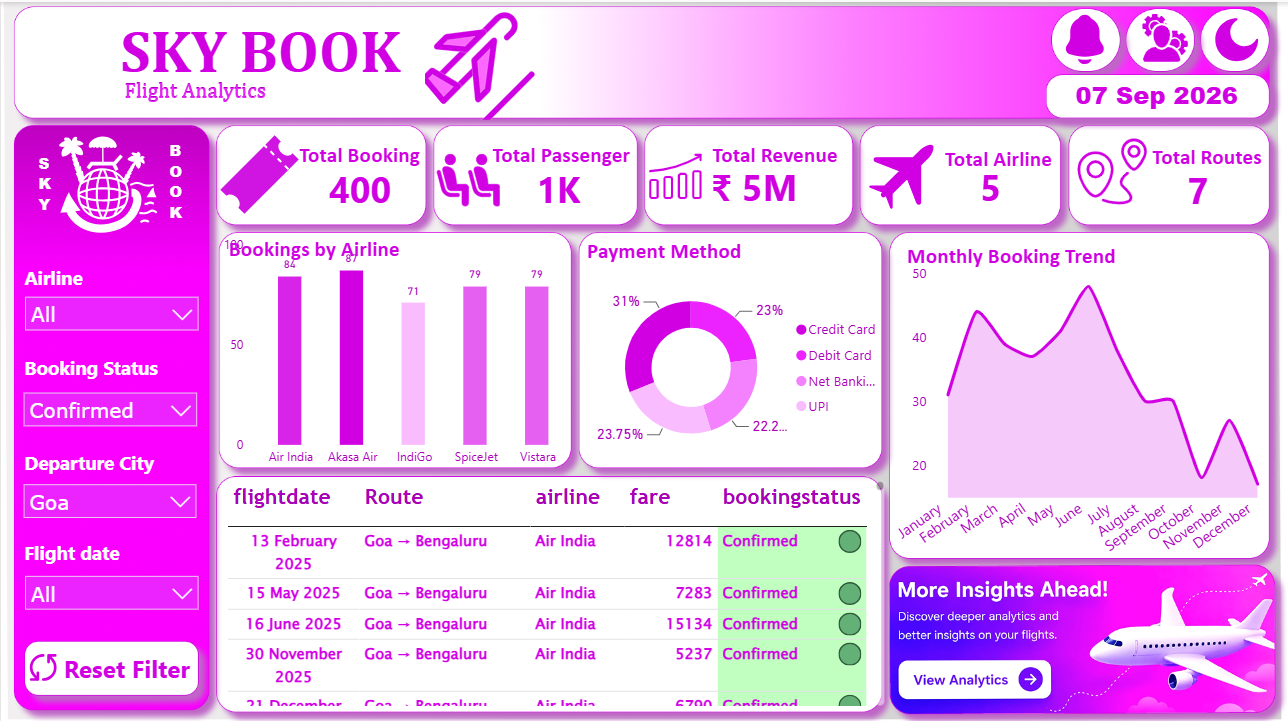

Layout of this report page (visuals, bound fields, positions):
{"tool":"powerbi","page":{"name":"Flight Overview","canvas":[1280,720],"ordinal":0},"visuals":[{"type":"image","box":[7.4,0,1272.8,719.8],"z":1000},{"type":"cardVisual","fields":{"Data":["customer_db_.Total Bookings"]},"box":[307,148.6,112.1,65.9],"z":2000},{"type":"cardVisual","fields":{"Data":["customer_db_.Total Airlines"]},"box":[954.6,141.6,126.2,74.3],"z":3000},{"type":"cardVisual","fields":{"Data":["customer_db_.Total Revenue"]},"box":[686.3,141.4,181.5,75.3],"z":4000},{"type":"cardVisual","fields":{"Data":["customer_db_.Total Passengers"]},"box":[512.8,143.6,105.3,76.2],"z":5000},{"type":"cardVisual","fields":{"Data":["customer_db_.Total Routes"]},"box":[1160.3,144.1,119.1,75],"z":6000},{"type":"cardVisual","fields":{"Data":["Min(customer_db_.Today's Date)"]},"box":[1060.3,44,214.7,78.2],"z":14000},{"type":"image","box":[394.1,0,167.6,122.1],"z":15000},{"type":"textbox","box":[113.7,8.2,305.5,113.7],"z":19000},{"type":"textbox","box":[291.1,132.9,143,41.8],"z":27000},{"type":"textbox","box":[933.8,136.8,144.1,42.6],"z":28000},{"type":"textbox","box":[702.6,133.5,142.7,41.9],"z":29000},{"type":"textbox","box":[1139.7,135.3,125,41.2],"z":30000},{"type":"textbox","box":[483.3,133.5,156.8,41.9],"z":31000},{"type":"image","box":[212.4,123.7,88,96],"z":32000},{"type":"image","box":[1064.7,122.4,79.1,92.5],"z":33000},{"type":"actionButton","box":[15,624.1,190.2,70.5],"z":33500},{"type":"image","box":[800.5,121.9,189.6,103.5],"z":34000},{"type":"image","box":[639.8,141.8,62.7,64.2],"z":35000},{"type":"image","box":[418.9,126.9,90,85.1],"z":36000},{"type":"textbox","box":[221,227.2,219.8,43.2],"z":37000},{"type":"textbox","box":[895.1,234.6,243.2,40.7],"z":38000},{"type":"textbox","box":[577.8,228.4,201.2,42],"z":39000},{"type":"actionButton","box":[895.8,651.6,174.7,43.2],"z":40000},{"type":"textbox","box":[17.2,350.6,170.1,41.2],"z":41000},{"type":"textbox","box":[20.6,254.3,134,43],"z":42000},{"type":"textbox","box":[18.9,434.8,173.6,41.2],"z":43000},{"type":"tableEx","fields":{"Values":["customer_db_.flightdate","customer_db_.Route","customer_db_.airline","customer_db_.fare","customer_db_.bookingstatus"]},"box":[216.5,476,663.3,233.7],"z":45000},{"type":"image","box":[1034.5,0,100,70.2],"z":47000},{"type":"image","box":[1119.4,3.2,88.1,57.9],"z":49000},{"type":"image","box":[1189.7,1.7,89.7,58.6],"z":50000},{"type":"textbox","box":[18.9,529.3,132.3,41.2],"z":51000},{"type":"slicer","fields":{"Values":["customer_db_.airline"]},"box":[12.8,282.1,192.4,68.4],"z":52000},{"type":"slicer","fields":{"Values":["customer_db_.bookingstatus"]},"box":[12.8,378.3,192.4,68.4],"z":53000},{"type":"slicer","fields":{"Values":["customer_db_.departurecity"]},"box":[12.8,470.2,192.4,68.4],"z":54000},{"type":"slicer","fields":{"Values":["customer_db_.flightdate"]},"box":[12.8,557.8,192.4,66.3],"z":55000},{"type":"textbox","box":[32.1,145.3,40.6,74.8],"z":56000},{"type":"textbox","box":[163,131.8,40.9,113.6],"z":57000},{"type":"image","box":[41.3,126.3,131.7,108.4],"z":58000},{"type":"clusteredColumnChart","fields":{"Y":["customer_db_.Total Bookings"],"Category":["customer_db_.airline"]},"box":[215.8,227.5,360.8,242.5],"z":62000},{"type":"donutChart","fields":{"Y":["customer_db_.Total Bookings"],"Category":["customer_db_.paymentmethod"]},"box":[577.4,256.5,305.6,213.7],"z":63000},{"type":"lineChart","fields":{"Y":["customer_db_.Total Bookings"],"Category":["customer_db_.flightdate.Variation.Date Hierarchy.Month"]},"box":[880.6,254.8,385.5,315.3],"z":64000},{"type":"textbox","box":[117.4,69.6,173.9,76.1],"z":66000},{"type":"textbox","box":[56,639.4,159.5,54.6],"z":124001},{"type":"image","box":[20.1,636.5,43.1,44.5],"z":124002}]}

Visuals, with their boxes in screenshot pixels (x1, y1, x2, y2), scaled from the page's 1280x720 canvas onto the 1288x721 screenshot:
image: bbox(7, 0, 1287, 720)
cardVisual - customer_db_.Total Bookings: bbox(309, 149, 422, 215)
cardVisual - customer_db_.Total Airlines: bbox(961, 142, 1088, 216)
cardVisual - customer_db_.Total Revenue: bbox(691, 142, 873, 217)
cardVisual - customer_db_.Total Passengers: bbox(516, 144, 622, 220)
cardVisual - customer_db_.Total Routes: bbox(1168, 144, 1287, 219)
cardVisual - Min(customer_db_.Today's Date): bbox(1067, 44, 1283, 122)
image: bbox(397, 0, 565, 122)
textbox: bbox(114, 8, 422, 122)
textbox: bbox(293, 133, 437, 175)
textbox: bbox(940, 137, 1085, 180)
textbox: bbox(707, 134, 851, 176)
textbox: bbox(1147, 135, 1273, 177)
textbox: bbox(486, 134, 644, 176)
image: bbox(214, 124, 302, 220)
image: bbox(1071, 123, 1151, 215)
actionButton: bbox(15, 625, 206, 696)
image: bbox(806, 122, 996, 226)
image: bbox(644, 142, 707, 206)
image: bbox(422, 127, 512, 212)
textbox: bbox(222, 228, 444, 271)
textbox: bbox(901, 235, 1145, 276)
textbox: bbox(581, 229, 784, 271)
actionButton: bbox(901, 653, 1077, 696)
textbox: bbox(17, 351, 188, 392)
textbox: bbox(21, 255, 156, 298)
textbox: bbox(19, 435, 194, 477)
tableEx - customer_db_.flightdate x customer_db_.Route: bbox(218, 477, 885, 711)
image: bbox(1041, 0, 1142, 70)
image: bbox(1126, 3, 1215, 61)
image: bbox(1197, 2, 1287, 60)
textbox: bbox(19, 530, 152, 571)
slicer - customer_db_.airline: bbox(13, 282, 206, 351)
slicer - customer_db_.bookingstatus: bbox(13, 379, 206, 447)
slicer - customer_db_.departurecity: bbox(13, 471, 206, 539)
slicer - customer_db_.flightdate: bbox(13, 559, 206, 625)
textbox: bbox(32, 146, 73, 220)
textbox: bbox(164, 132, 205, 246)
image: bbox(42, 126, 174, 235)
clusteredColumnChart - customer_db_.Total Bookings x customer_db_.airline: bbox(217, 228, 580, 471)
donutChart - customer_db_.Total Bookings x customer_db_.paymentmethod: bbox(581, 257, 889, 471)
lineChart - customer_db_.Total Bookings x customer_db_.flightdate.Variation.Date Hierarchy.Month: bbox(886, 255, 1274, 571)
textbox: bbox(118, 70, 293, 146)
textbox: bbox(56, 640, 217, 695)
image: bbox(20, 637, 64, 682)
